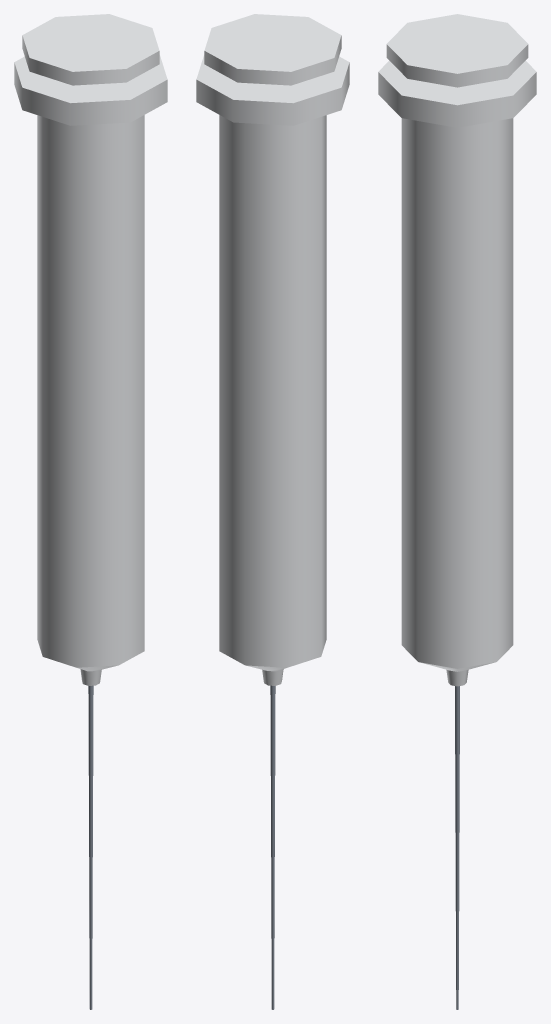
File: syringe_syringe_needle.glb
The picture shows the model from 3 angles, left to right: view 1: azimuth 30°, elevation 25°; view 2: azimuth 150°, elevation 25°; view 3: azimuth 270°, elevation 25°; orthographic projection.
Visible parts, largest first — view 1: syringe_syringe_needle, syringe_syringe_needle_plunger; view 2: syringe_syringe_needle, syringe_syringe_needle_plunger; view 3: syringe_syringe_needle, syringe_syringe_needle_plunger.
Boxes of the visible parts, bbox=[...] form: syringe_syringe_needle: bbox=[14, 55, 167, 1009]; syringe_syringe_needle_plunger: bbox=[22, 14, 159, 85]; syringe_syringe_needle: bbox=[196, 55, 349, 1009]; syringe_syringe_needle_plunger: bbox=[204, 14, 341, 85]; syringe_syringe_needle: bbox=[378, 60, 536, 1009]; syringe_syringe_needle_plunger: bbox=[386, 14, 528, 87].
Bounding box in the file's own units: 2.85 × 19.14 × 2.85.
2 materials, 2 textured.
